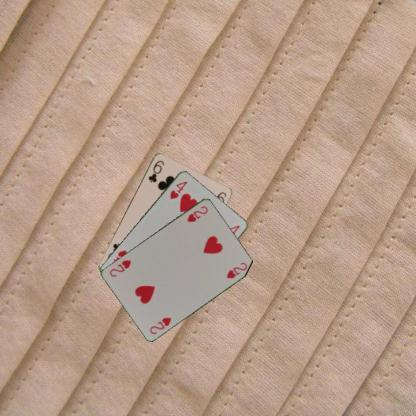2h: (148, 314, 172, 335), (184, 203, 209, 223)
4h: (167, 178, 189, 200)
6c: (146, 158, 166, 184)
